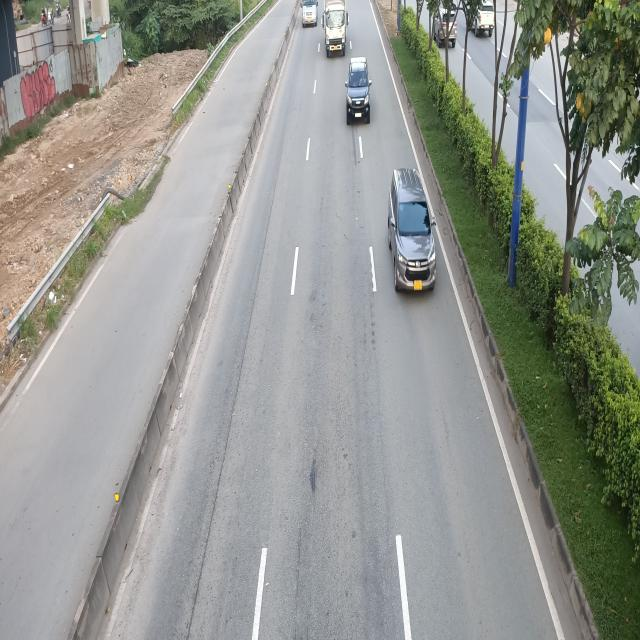car: (390, 166, 439, 291), (346, 54, 372, 122)
truck: (323, 0, 349, 56)
van: (299, 0, 318, 27)
